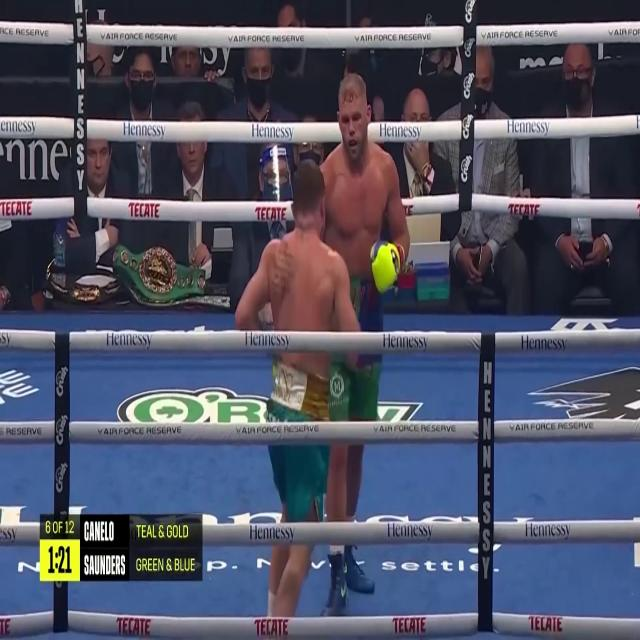boxer_1: (321, 73, 387, 267)
boxer_2: (270, 159, 335, 332), (276, 353, 330, 378)
gloves_1: (370, 241, 404, 294)
